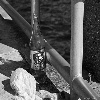beer: (28, 13, 47, 80)
